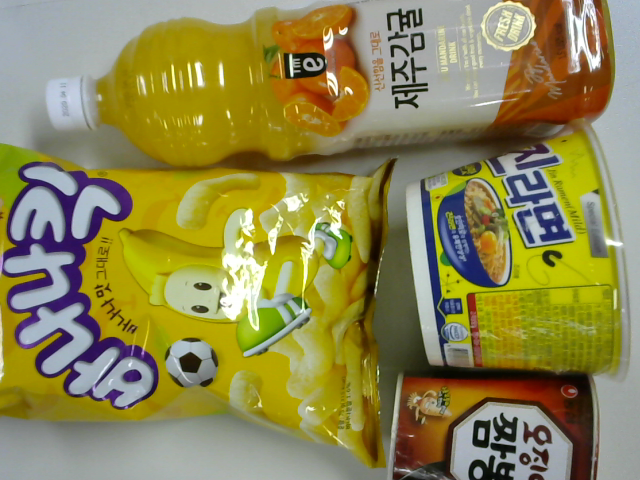Banana_Kick: (5, 142, 377, 480)
Jeju_Tangerine_1.5L: (39, 2, 619, 160)
Jinlamyeon_Mild_Taste_Large_Cup: (405, 124, 627, 388)
Ojjam: (389, 366, 602, 480)
